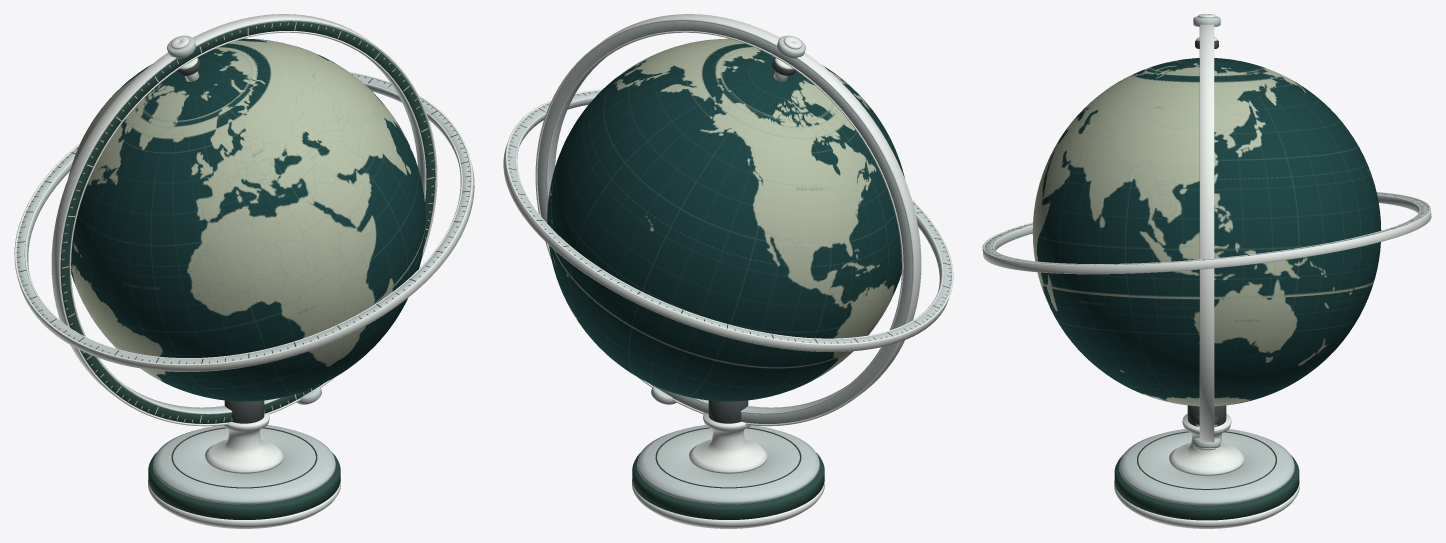
File: meridian.glb
The picture shows the model from 3 angles, left to right: view 1: azimuth 30°, elevation 25°; view 2: azimuth 150°, elevation 25°; view 3: azimuth 270°, elevation 25°; orthographic projection. The views are drawn at different scales.
Parts seen in each view (by area): view 1: EarthRotor, Plinth satin crown, Meridian graphite inlay, Orbit graduated face, Meridian exterior bright lip, Orbit outer bright rail, Foot deep enamel collar, Stem flared mounting, Meridian interior bright lip, Meridian brushed instrument band, Foot machined lower bevel, Orbit inner bright rail (+3 smaller); view 2: EarthRotor, Meridian brushed instrument band, Plinth satin crown, Meridian exterior bright lip, Orbit outer bright rail, Orbit graduated face, Foot deep enamel collar, Stem flared mounting, Meridian interior bright lip, Foot machined lower bevel, Orbit inner bright rail, Stand upper clamp (+1 smaller); view 3: EarthRotor, Plinth satin crown, Meridian exterior bright lip, Orbit outer bright rail, Foot deep enamel collar, Stem flared mounting, Orbit graduated face, Foot machined lower bevel, Orbit inner bright rail.
Boxes of the visible parts, x1,y1,x2,y2 form: EarthRotor: (68,38,425,401); Plinth satin crown: (153,425,335,504); Meridian graphite inlay: (60,21,435,423); Orbit graduated face: (16,74,470,363); Meridian exterior bright lip: (51,14,437,426); Orbit outer bright rail: (14,72,474,371); Foot deep enamel collar: (148,452,340,519); Stem flared mounting: (205,413,283,473); Meridian interior bright lip: (69,31,426,414); Meridian brushed instrument band: (60,21,435,423); Foot machined lower bevel: (148,479,340,528); Orbit inner bright rail: (24,82,462,358); EarthRotor: (547,38,904,401); Meridian brushed instrument band: (537,21,912,423); Plinth satin crown: (637,425,819,504); Meridian exterior bright lip: (535,14,921,426); Orbit outer bright rail: (503,89,953,351); Orbit graduated face: (508,91,951,343); Foot deep enamel collar: (632,452,824,519); Stem flared mounting: (689,413,767,473); Meridian interior bright lip: (546,31,903,414); Foot machined lower bevel: (632,479,824,528); Orbit inner bright rail: (515,96,943,339); Stand upper clamp: (708,400,748,423); EarthRotor: (1032,58,1381,406); Plinth satin crown: (1119,429,1294,505); Meridian exterior bright lip: (1199,24,1214,442); Orbit outer bright rail: (982,192,1431,274); Foot deep enamel collar: (1114,455,1299,520); Stem flared mounting: (1169,413,1244,475); Orbit graduated face: (984,193,1428,265); Foot machined lower bevel: (1114,481,1299,528); Orbit inner bright rail: (992,194,1420,264).
Bounding box in the file's own units: 2.49 × 2.87 × 2.58.
Materials: 7 (1 with a texture image).
